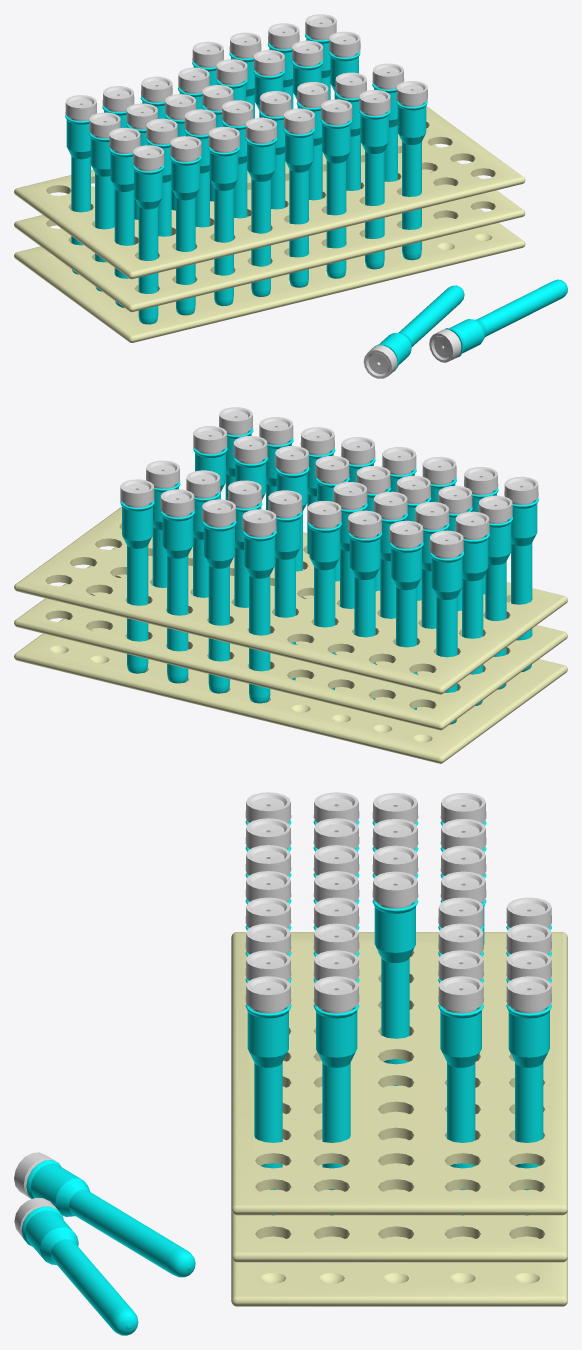
File: shtativ kolba.FBX
3 renders of one model, top to bottom at view 1: azimuth 30°, elevation 25°; view 2: azimuth 150°, elevation 25°; view 3: azimuth 270°, elevation 25°, orthographic. The views are drawn at different scales.
Visible parts, largest first — view 1: ChamferBox001, Line040, Line022, Line044, Line026, Line038, Line024, Line042, Line028, Line072, Line036, Line019 (+49 smaller); view 2: ChamferBox001, Line064, Line066, Line068, Line062, Line019, Line014, Line015, Line018, Line022, Line005, Line054 (+46 smaller); view 3: ChamferBox001, Line070, Line072, Line012, Line060, Line062, Line046, Line044, Line059, Line061, Line043, Line045 (+29 smaller).
Part boxes in pixels (x1,y1,x2,y2): ChamferBox001: [14, 106, 525, 342]; Line040: [320, 118, 352, 278]; Line022: [132, 164, 164, 324]; Line044: [396, 100, 427, 260]; Line026: [208, 146, 239, 305]; Line038: [283, 127, 314, 287]; Line024: [170, 155, 201, 315]; Line042: [359, 109, 390, 269]; Line028: [245, 137, 276, 296]; Line072: [445, 279, 567, 357]; Line036: [108, 147, 134, 307]; Line019: [65, 114, 90, 274]; ChamferBox001: [14, 506, 567, 763]; Line064: [160, 510, 194, 683]; Line066: [202, 520, 236, 693]; Line068: [242, 530, 276, 703]; Line062: [120, 500, 154, 673]; Line019: [429, 551, 463, 724]; Line014: [307, 521, 341, 689]; Line015: [348, 531, 382, 699]; Line018: [389, 541, 423, 709]; Line022: [511, 497, 538, 671]; Line005: [462, 532, 489, 705]; Line054: [274, 511, 302, 680]; ChamferBox001: [231, 932, 567, 1306]; Line070: [26, 1160, 195, 1277]; Line072: [21, 1206, 138, 1335]; Line012: [372, 899, 418, 1085]; Line060: [438, 1004, 483, 1215]; Line062: [506, 1004, 551, 1215]; Line046: [313, 1004, 359, 1215]; Line044: [245, 1004, 291, 1215]; Line059: [438, 976, 483, 1013]; Line061: [506, 976, 551, 1013]; Line043: [245, 976, 291, 1013]; Line045: [313, 976, 359, 1013].
Size of the model in its own units: 50.42 by 24.53 by 42.43.
